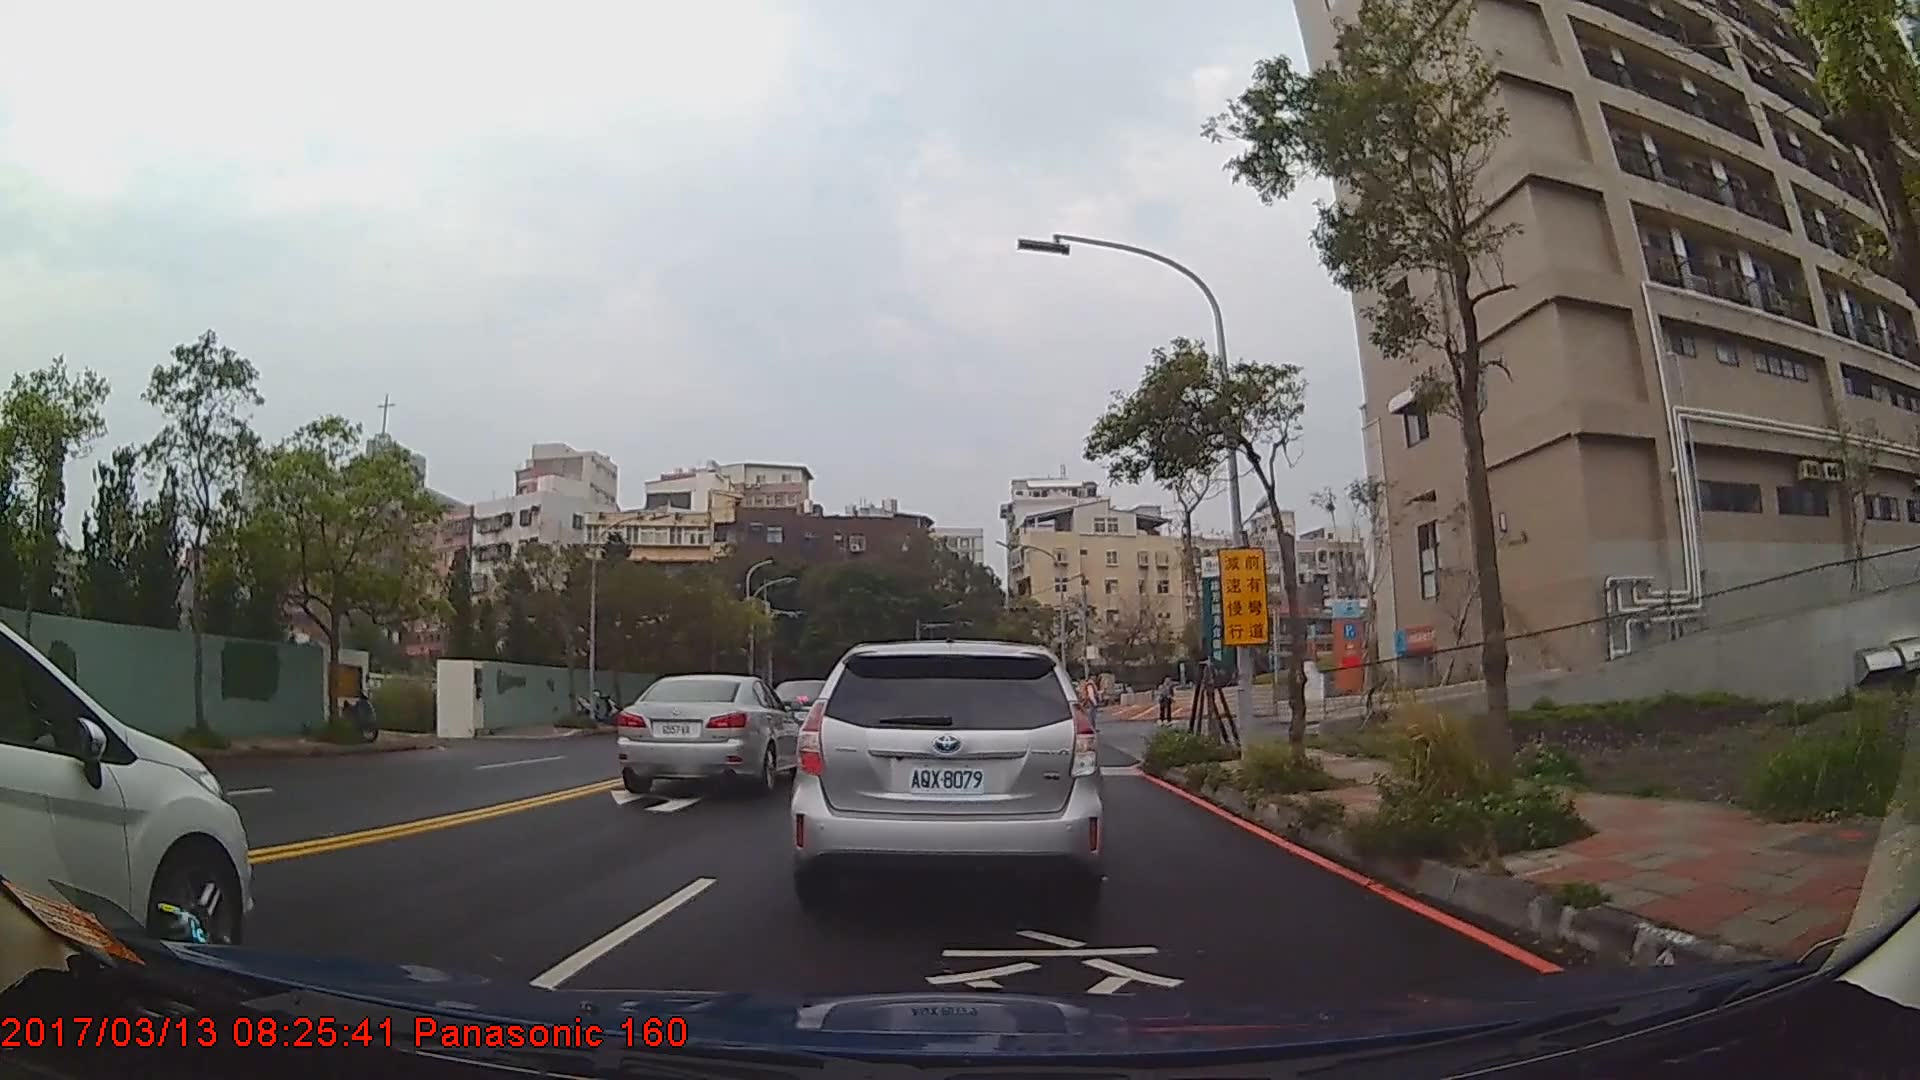pedestrian: (1082, 668, 1107, 739)
vehicle: (786, 637, 1108, 922), (0, 618, 255, 964), (617, 674, 805, 793)
